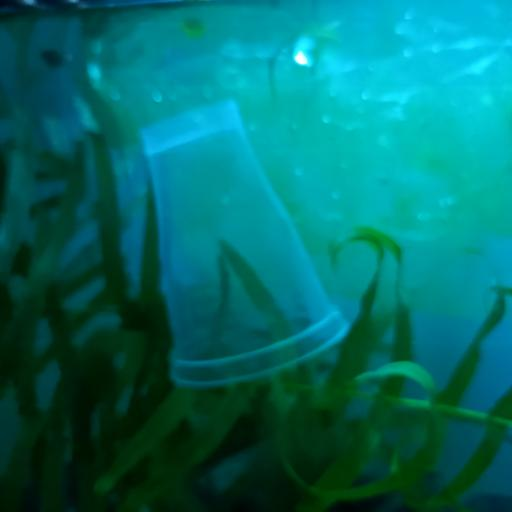plastic_bag: (112, 32, 512, 320)
plastic_cup: (139, 98, 350, 389)
